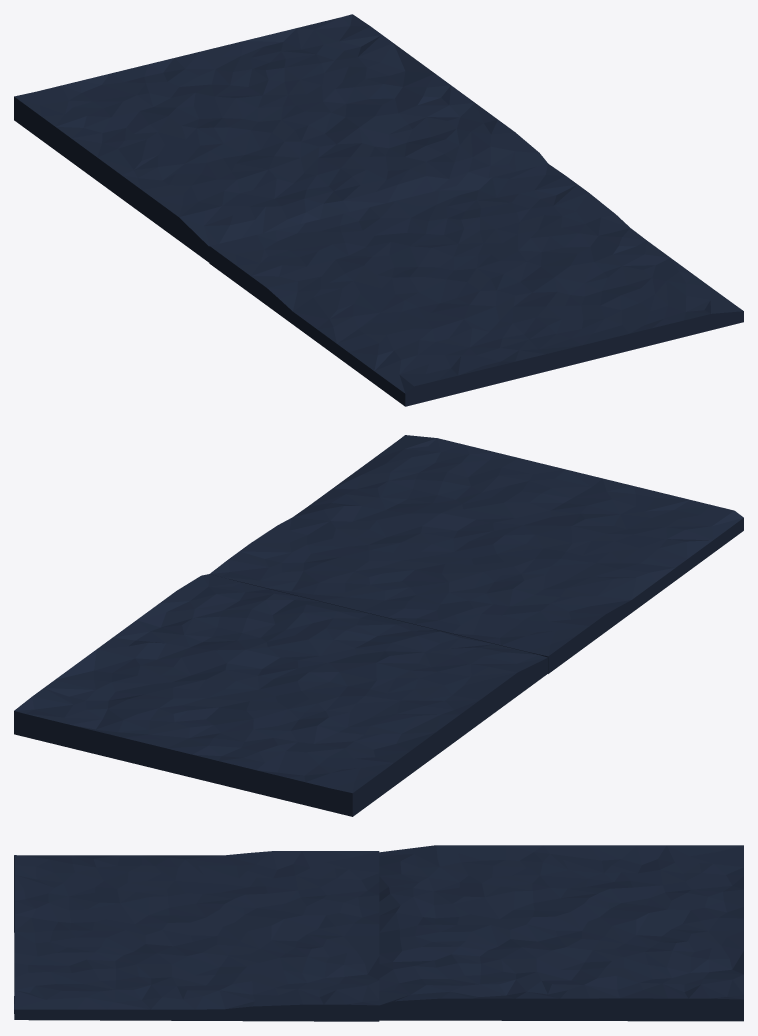
The model's file is RIO 100_ OFICIAL.fbx.
3 renders of one model, top to bottom at view 1: azimuth 30°, elevation 25°; view 2: azimuth 150°, elevation 25°; view 3: azimuth 270°, elevation 25°, orthographic. The views are drawn at different scales.
Visible parts, largest first — view 1: rio.003, rio.002; view 2: rio.002, rio.003; view 3: rio.002, rio.003.
Boxes of the visible parts, x1=… form: rio.003: x1=209, y1=163, x2=743, y2=406; rio.002: x1=14, y1=14, x2=547, y2=262; rio.002: x1=14, y1=574, x2=547, y2=816; rio.003: x1=210, y1=435, x2=743, y2=673; rio.002: x1=378, y1=845, x2=743, y2=1021; rio.003: x1=14, y1=851, x2=379, y2=1021.
Size of the model in its own units: 1001 by 70.87 by 2002.
2 materials, 2 textured.
